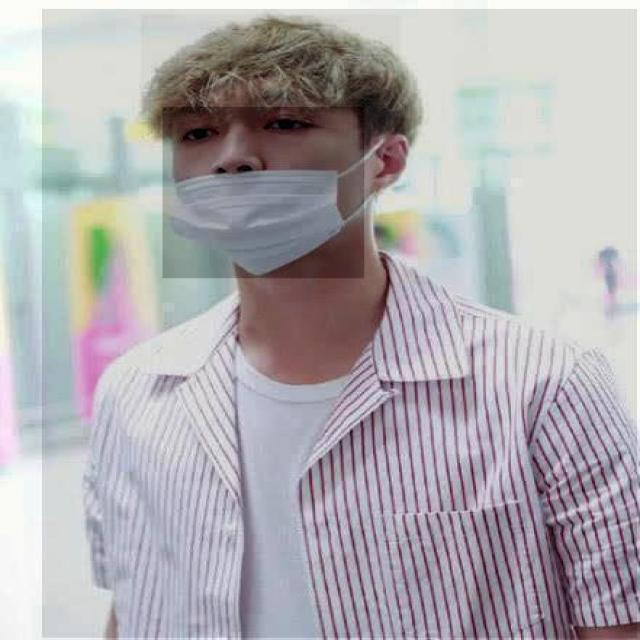face_mask: (163, 107, 364, 278)
head_nohelmet: (141, 14, 402, 102)
person: (42, 9, 639, 639)
